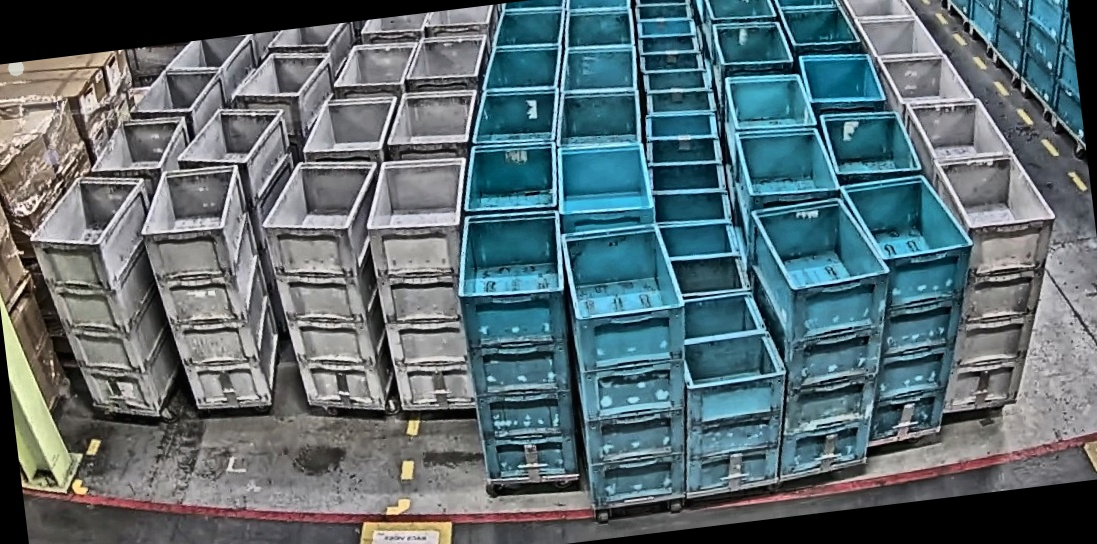4G: (912, 146, 1078, 414), (24, 168, 186, 424), (255, 153, 406, 422), (134, 160, 287, 419), (359, 153, 496, 419)
B4: (746, 186, 909, 477), (838, 169, 995, 442), (560, 220, 708, 507), (449, 205, 591, 486)
B8: (663, 288, 799, 493)
